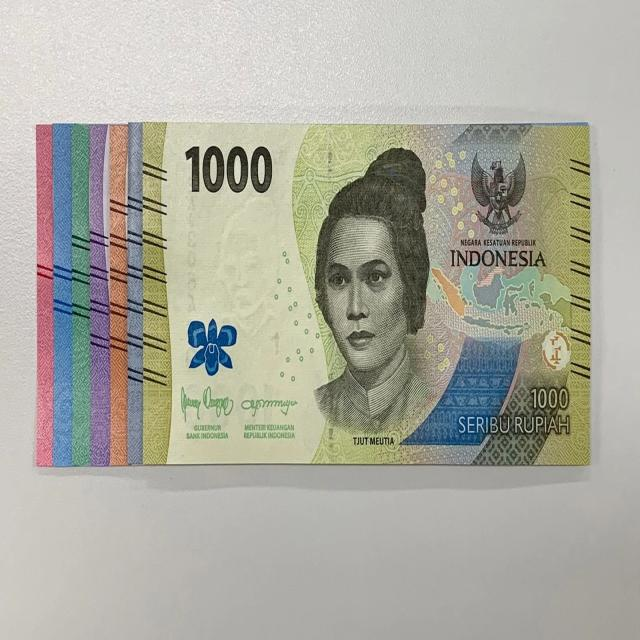seribu rupiah: (143, 122, 592, 466)
